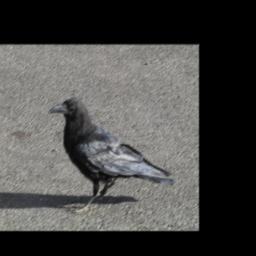Crow: (48, 96, 176, 213)
